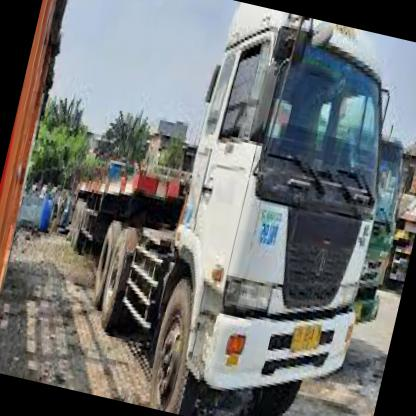truck: (132, 12, 416, 416)
